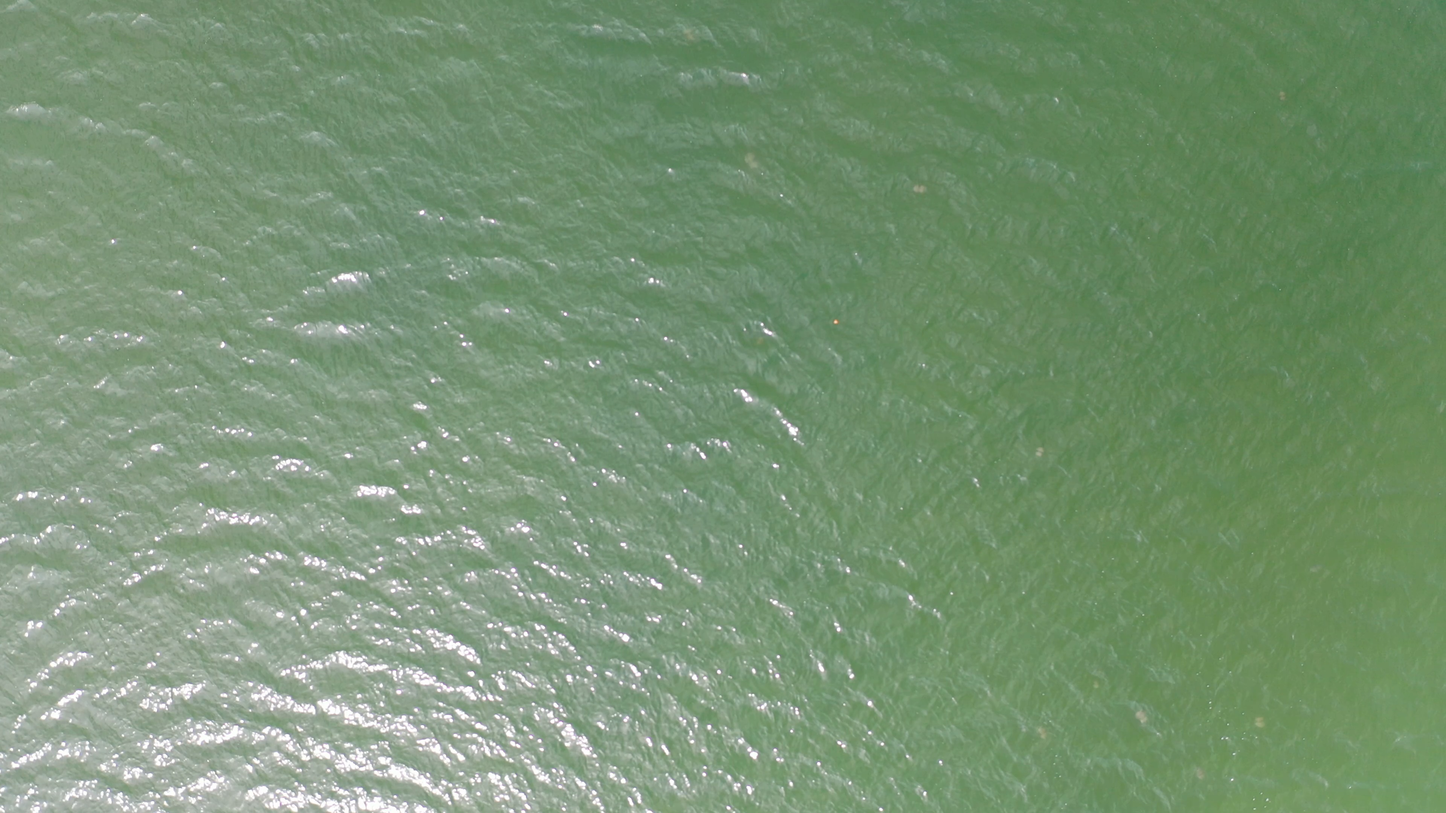meduse: (747, 156, 761, 171), (1136, 711, 1150, 723), (1038, 727, 1049, 740), (911, 183, 925, 192), (1196, 769, 1205, 781), (1255, 716, 1264, 727), (1036, 447, 1044, 458), (1280, 92, 1287, 102)
